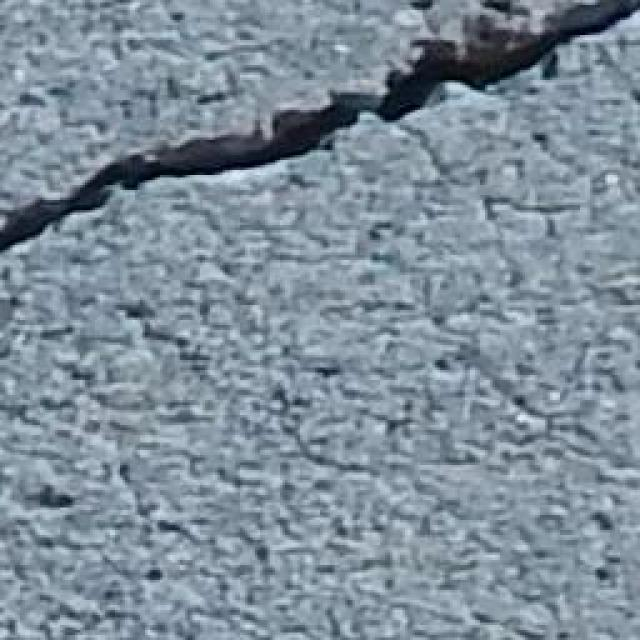concrete-crack: (0, 0, 637, 255)
